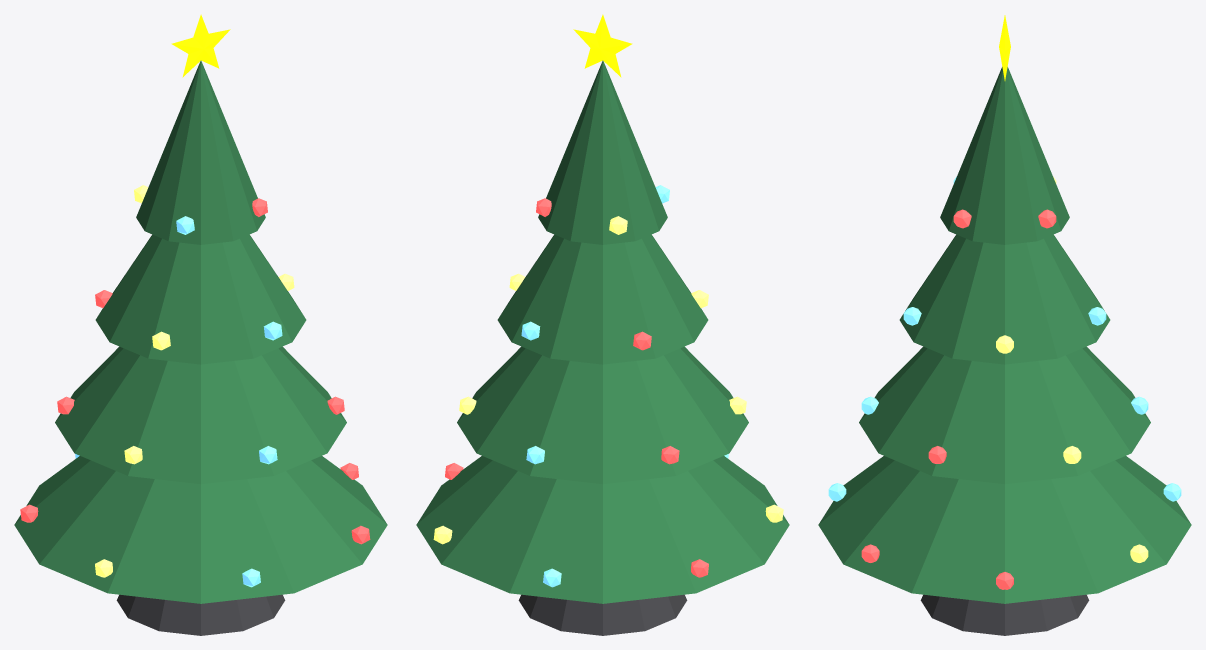
File: xmas_tree_v1.glb
3 views of the same model, side by side, from view 1: azimuth 30°, elevation 25°; view 2: azimuth 150°, elevation 25°; view 3: azimuth 270°, elevation 25° (orthographic).
Visible parts, largest first — view 1: furn.xmas_tree; view 2: furn.xmas_tree; view 3: furn.xmas_tree.
Part boxes in pixels (box(x1,y1,x2,y2)): furn.xmas_tree: box(14, 14, 387, 635); furn.xmas_tree: box(416, 14, 789, 635); furn.xmas_tree: box(818, 15, 1191, 635).
Bounding box in the file's own units: 1.24 × 2.15 × 1.24.
